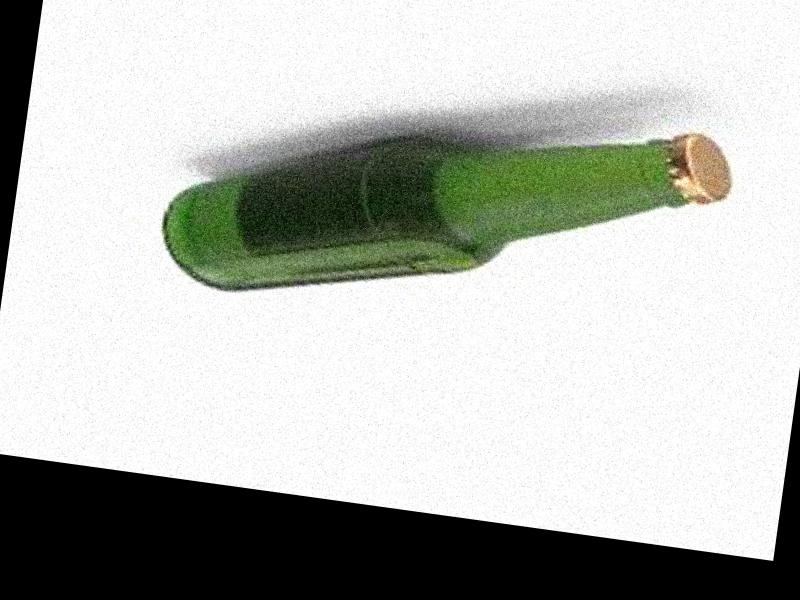Beer: (154, 61, 741, 358)
